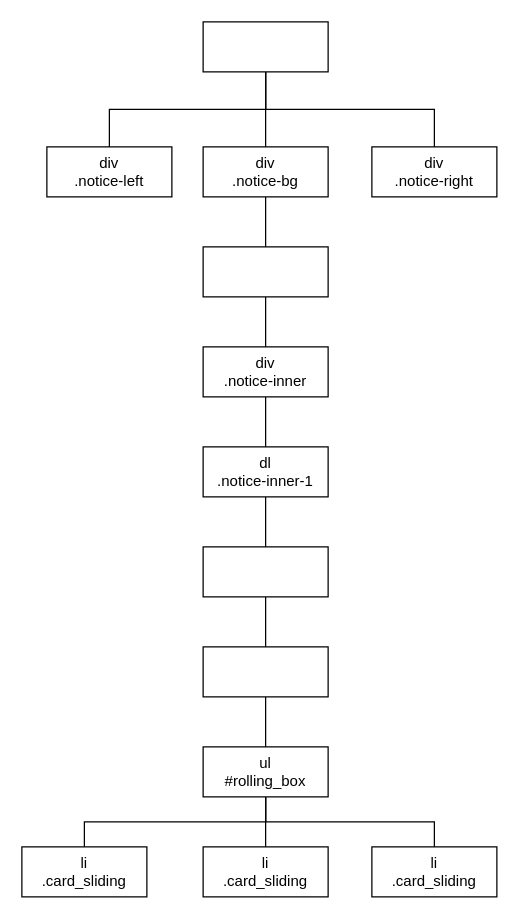
This 519x919 diagram has some shape labels left out. Each missing label, with the centre of its shape:
dd .rolling_wrap: (x=265, y=671)
div .line-notice: (x=265, y=46)
div .notice-bg1: (x=265, y=271)
dt .notice-tt1: (x=265, y=571)
